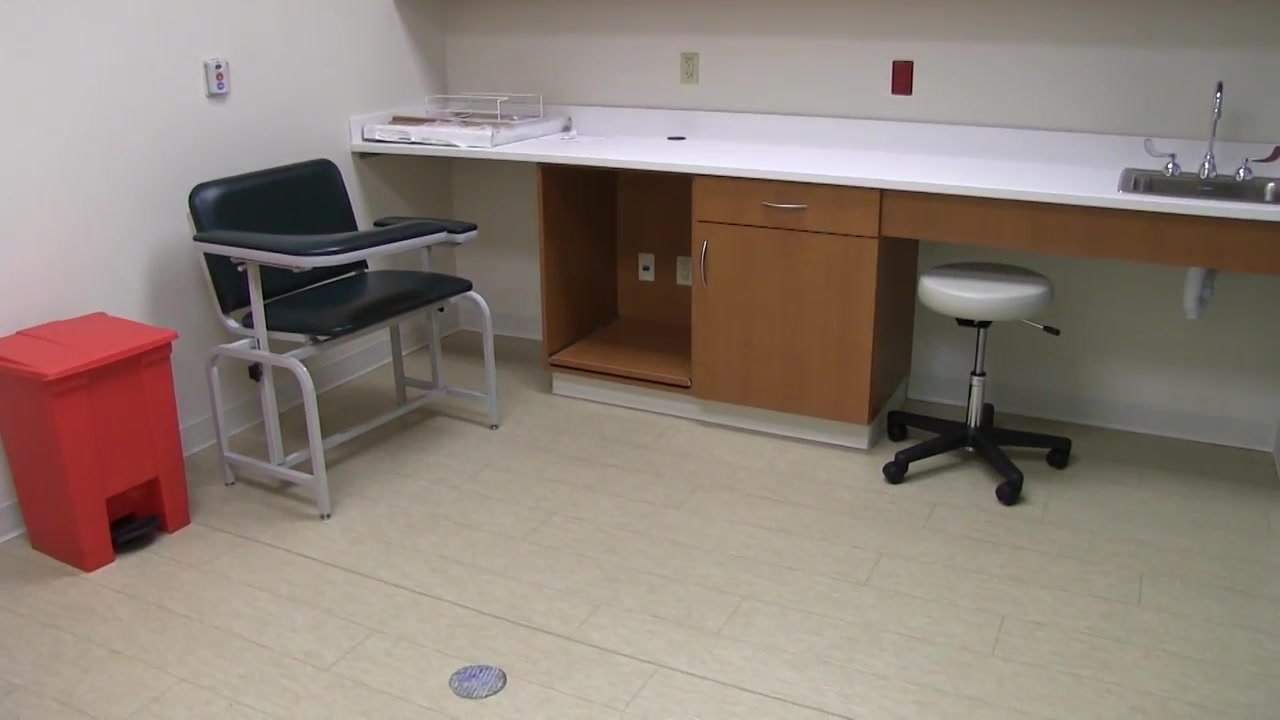chair: (187, 158, 500, 521), (883, 263, 1073, 506)
countertop: (352, 126, 1280, 223)
drawer: (690, 180, 918, 447)
faucet: (1146, 78, 1280, 176)
handle: (762, 199, 808, 211), (700, 240, 711, 287)
sink: (1118, 168, 1280, 205)
waste_bin: (1, 311, 192, 573)
